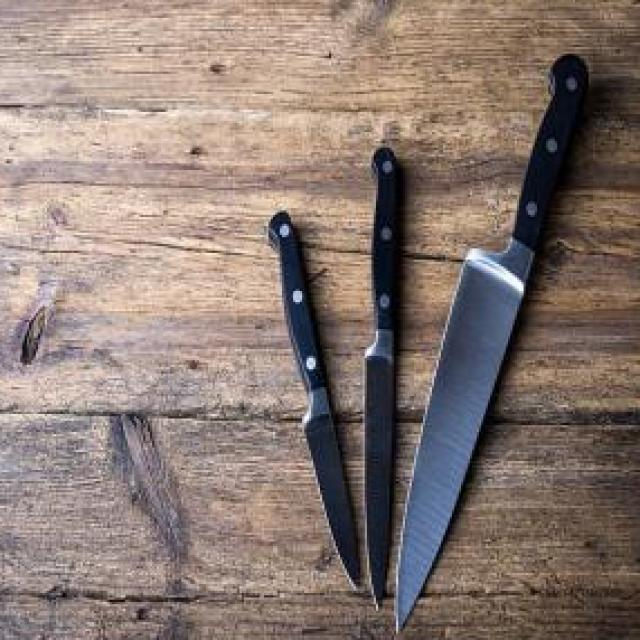knife: (392, 47, 593, 640), (265, 208, 365, 595), (360, 136, 408, 614)
